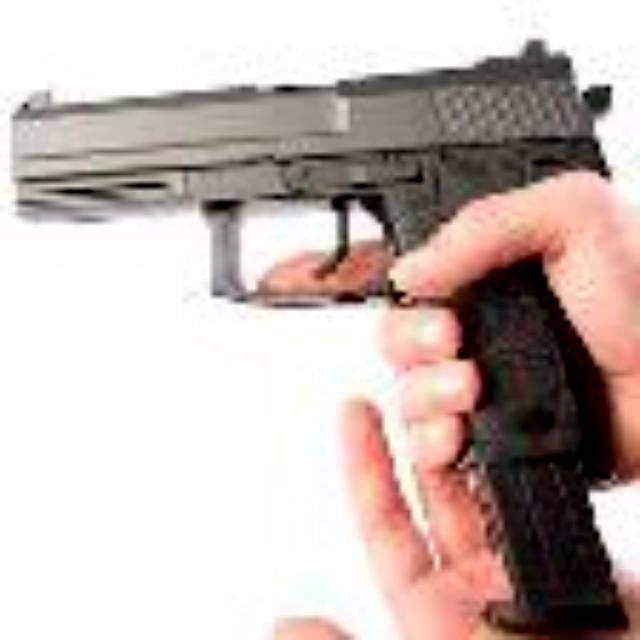pistol: (0, 34, 640, 468)
